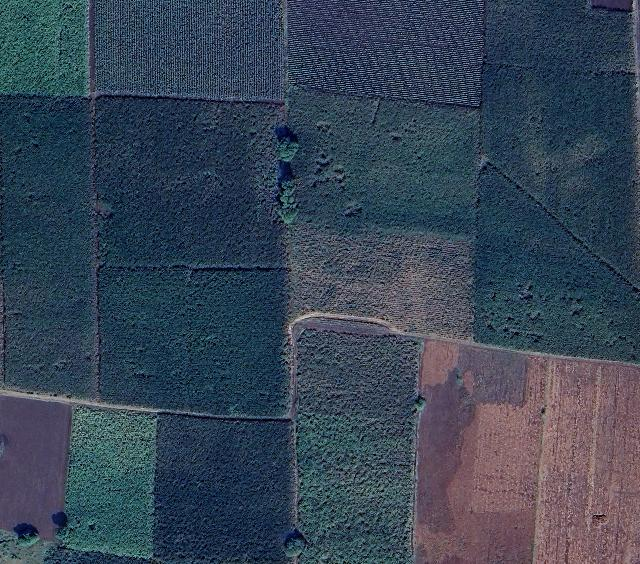EmptyFarms: (412, 336, 552, 564), (537, 359, 640, 564), (2, 400, 77, 542)
Farms: (98, 95, 293, 417), (474, 0, 639, 366), (293, 331, 422, 564), (2, 97, 97, 405), (287, 89, 479, 234), (288, 1, 487, 108), (156, 415, 294, 564), (91, 0, 286, 97), (294, 229, 469, 334), (62, 411, 157, 561), (2, 2, 88, 97)
